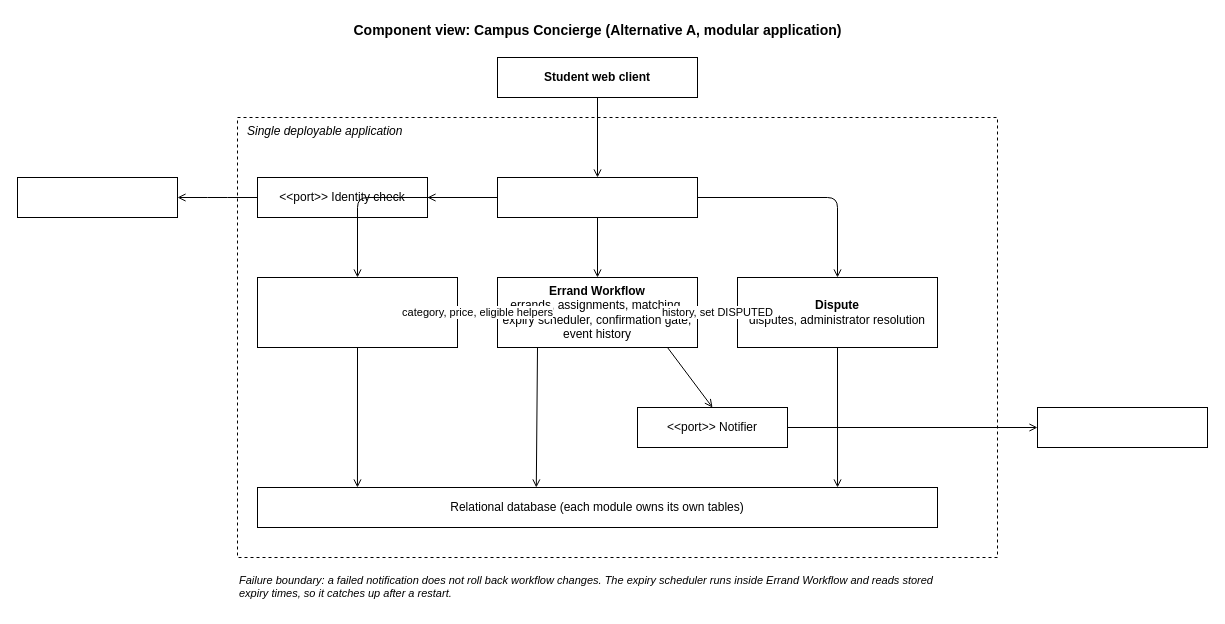
Some shapes in this 1225 by 624 pixel diagram are drawn without their labels. The shapes that lost their labels are listed below. From the top down, each one's centre as x and y in pixels, then its label:
(x=97, y=197): Identity Service (mock)
(x=597, y=197): Web/API layer
(x=357, y=312): Category and Helper Administration categories, standard prices, helper registry
(x=1122, y=427): Notification Service
